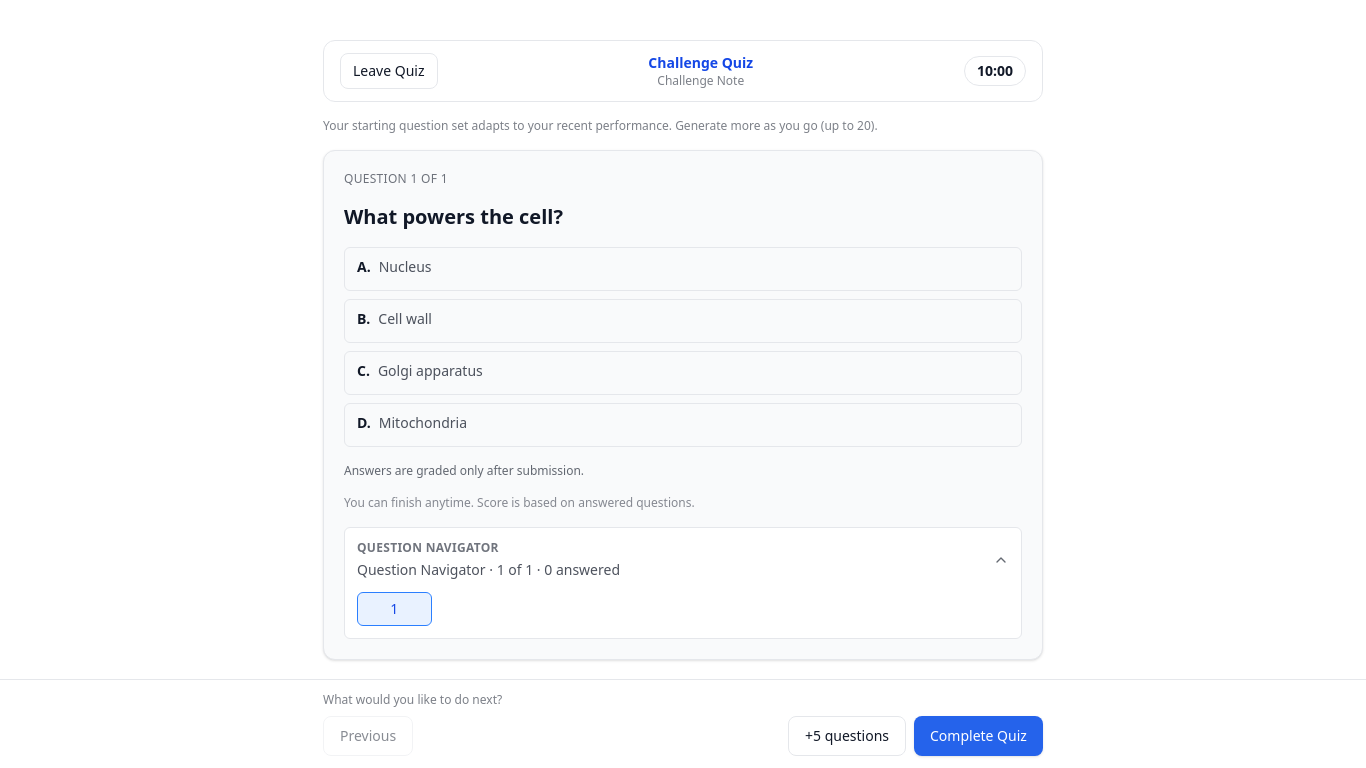
Scenario: ChallengeQuizPage › keeps an unsaved answer and index while a pending +5 poll appends questions
What coordinates should you click on to do the following:
click the button "+5 questions"
I would click on:
 (847, 736)
Its box is [788, 716, 906, 756].
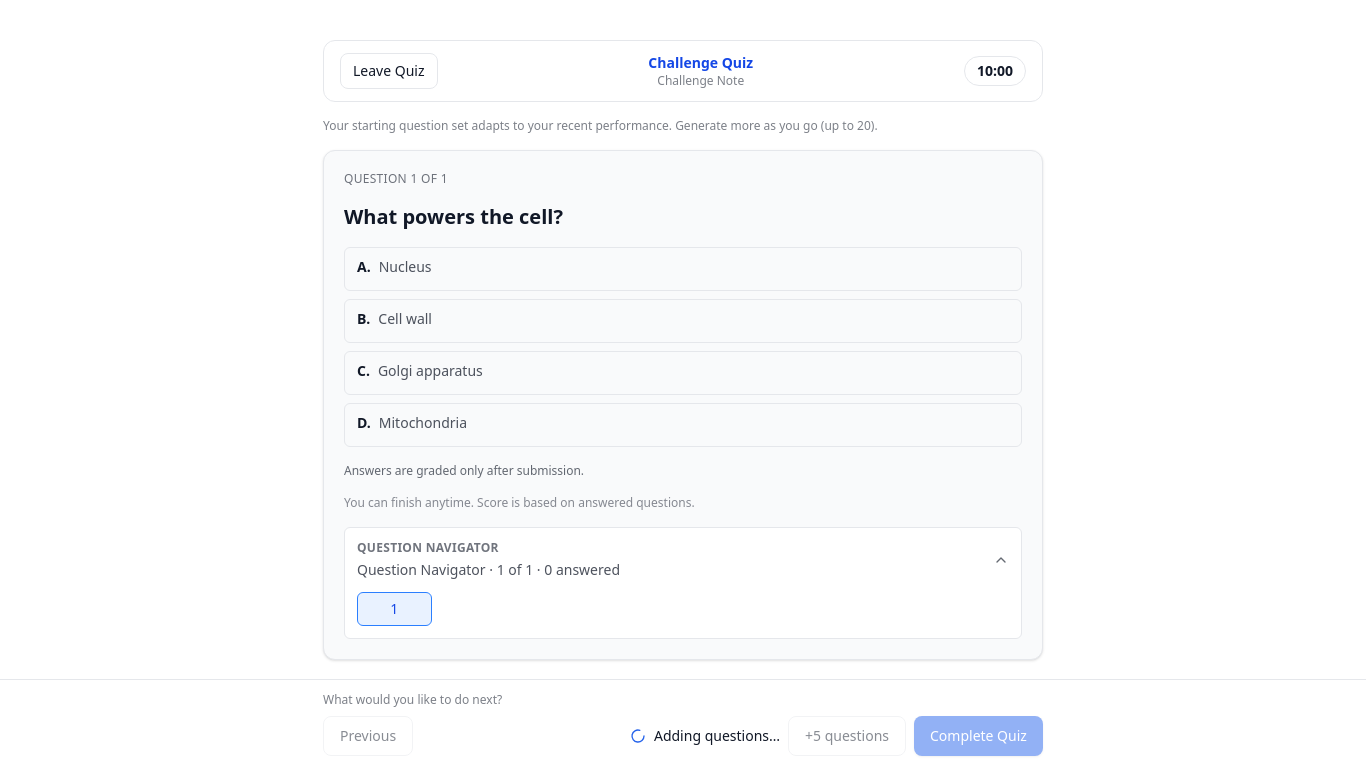
Now the text "Adding questions…" is shown, box [654, 726, 780, 746]
What coordinates should you click on to do the following:
click the button "D.Mitochondria"
I would click on:
 (423, 422)
Its box is [344, 403, 1022, 447].
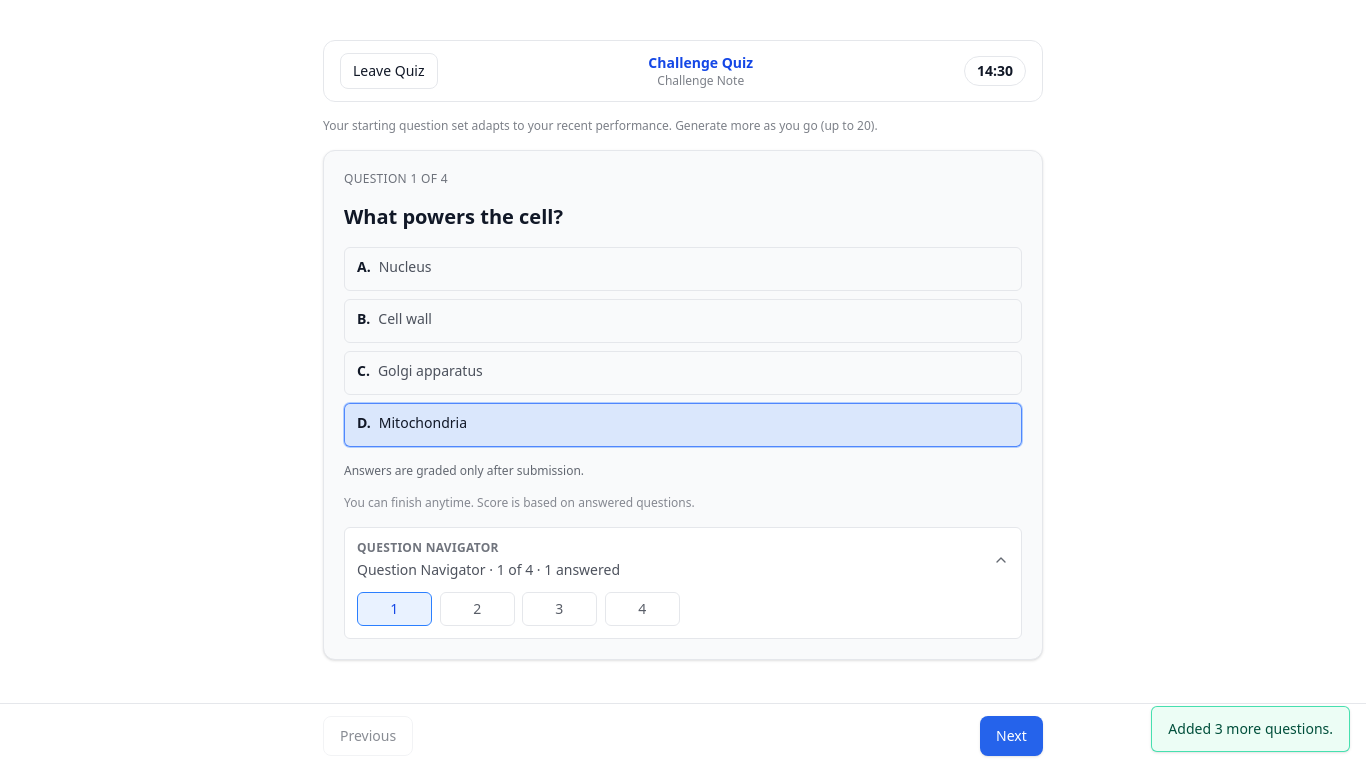
Now the text "Added 3 more questions." is shown, box [1151, 706, 1350, 752]
Now the text "Question 1 of 4" is shown, box [344, 170, 448, 187]
